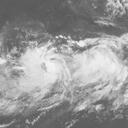cyclone: (30, 48, 96, 100)
